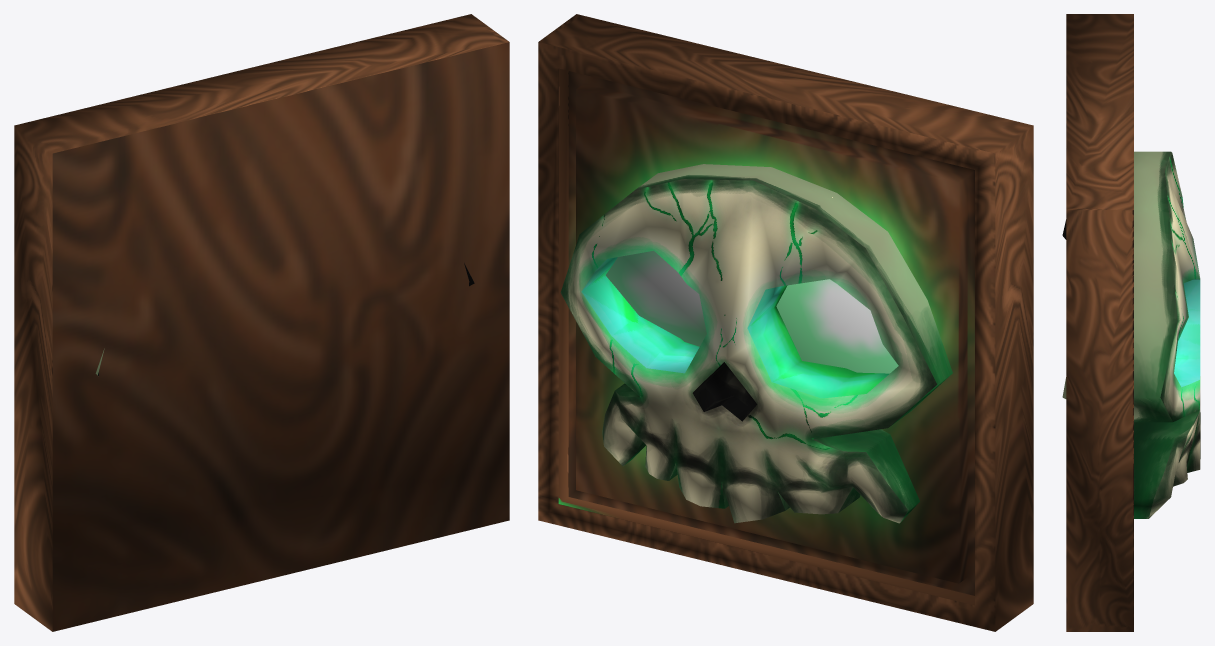
Rendered from skull_painting.obj.
3 renders of one model, left to right at view 1: azimuth 30°, elevation 25°; view 2: azimuth 150°, elevation 25°; view 3: azimuth 270°, elevation 25°, orthographic. The views are drawn at different scales.
Parts seen in each view (by area): view 1: Cube_Cube.013; view 2: Cube_Cube.013; view 3: Cube_Cube.013.
Boxes of the visible parts, bbox=[...] form: Cube_Cube.013: bbox=[14, 14, 509, 631]; Cube_Cube.013: bbox=[538, 14, 1033, 631]; Cube_Cube.013: bbox=[1062, 14, 1200, 631].
Bounding box in the file's own units: 2.8 × 2.8 × 0.8298.
